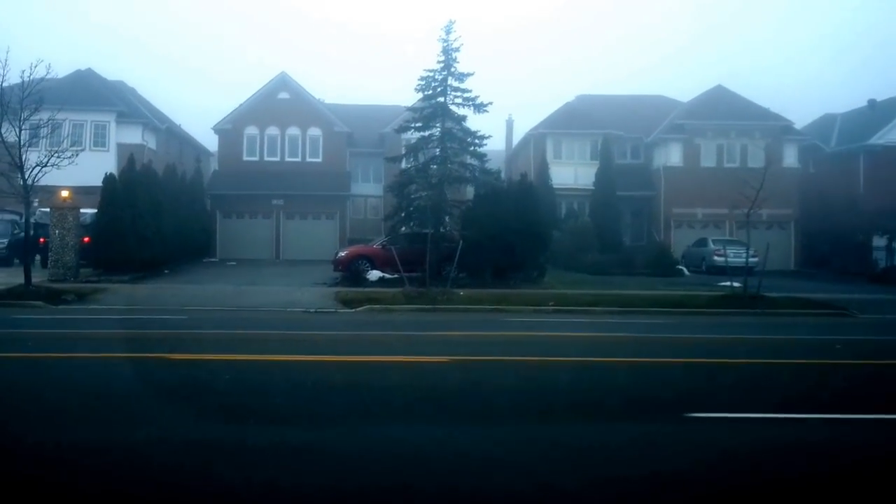car: (331, 229, 490, 281), (33, 205, 103, 269), (681, 235, 763, 275)
